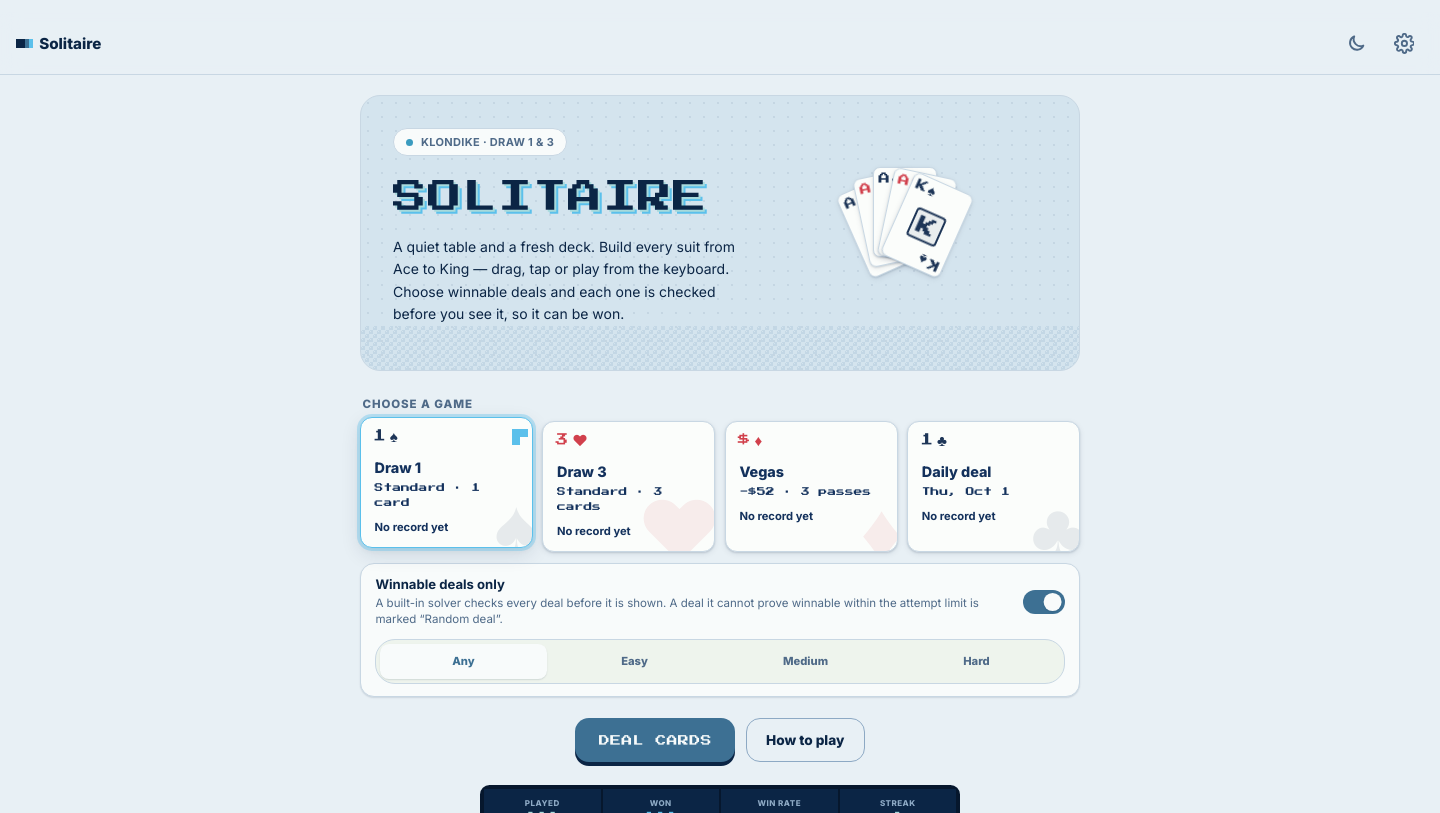
Test: application shell navigation › returns to Home when the back control is activated by pointer
Click the button "Deal cards".
click(656, 740)  # box [576,718,736,762]
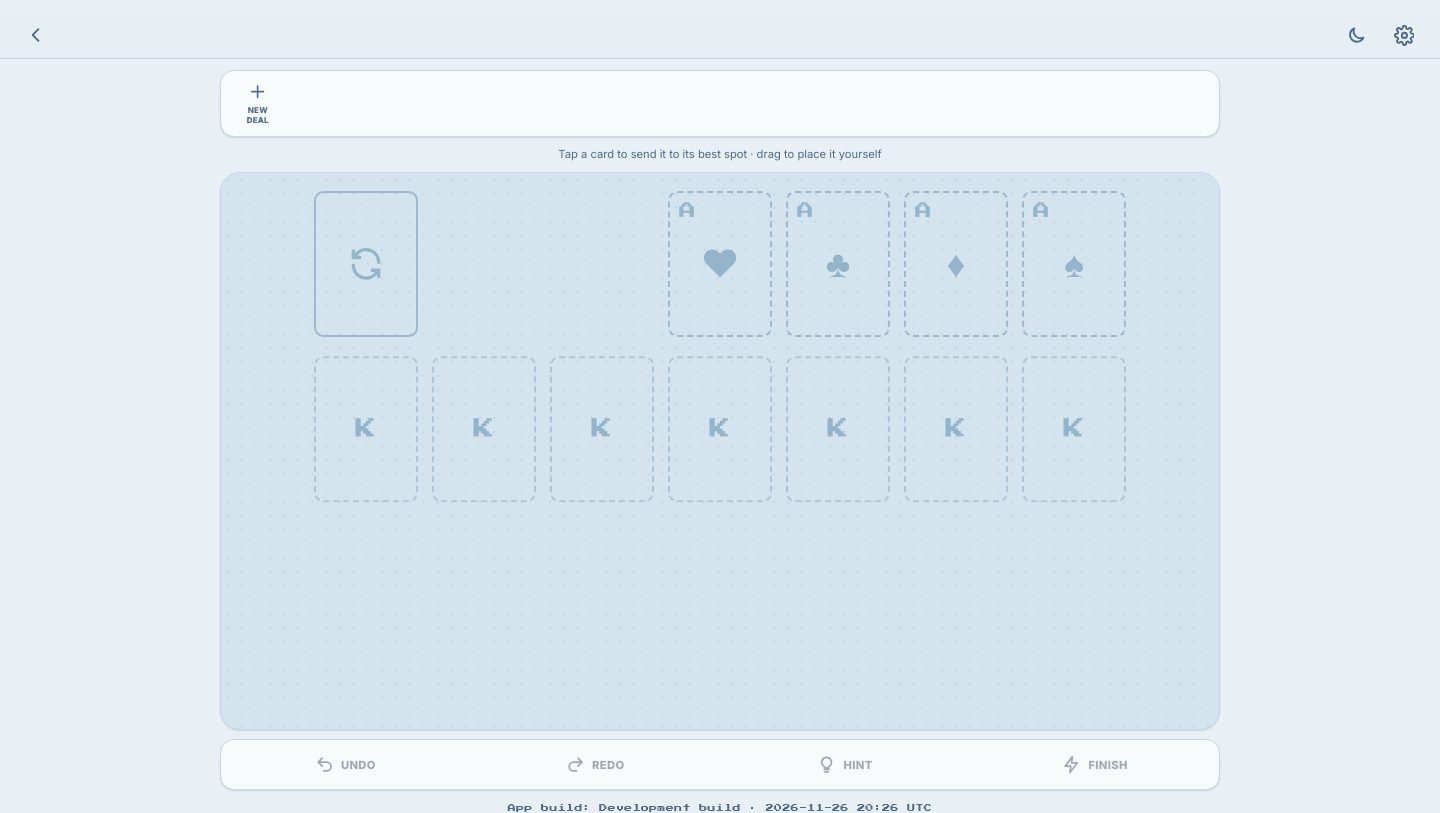
Click the button named "back to home".
click(36, 35)  # box [16,15,56,55]
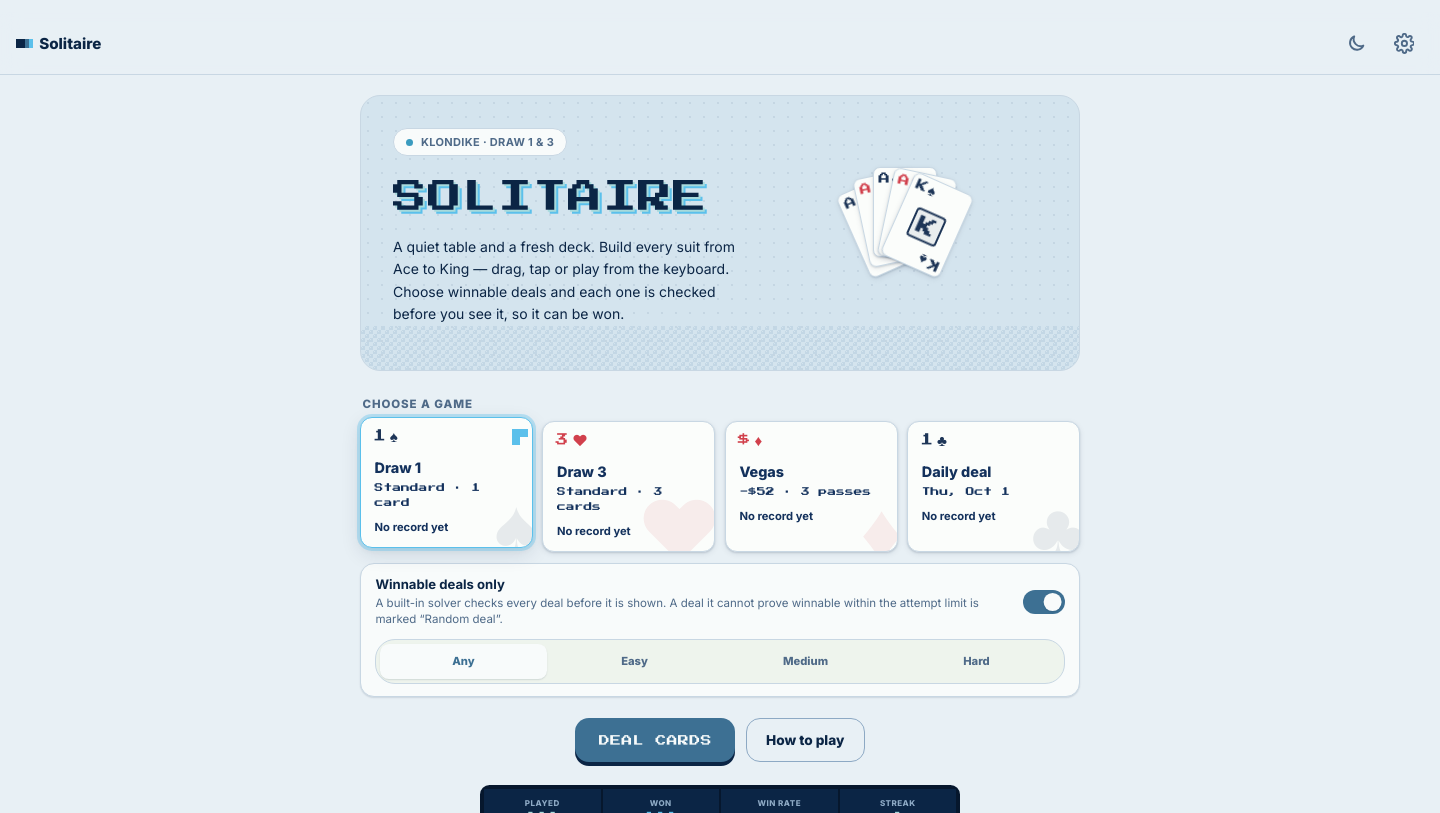
Expected: the button "Deal cards" is shown, [576,718,736,762]
